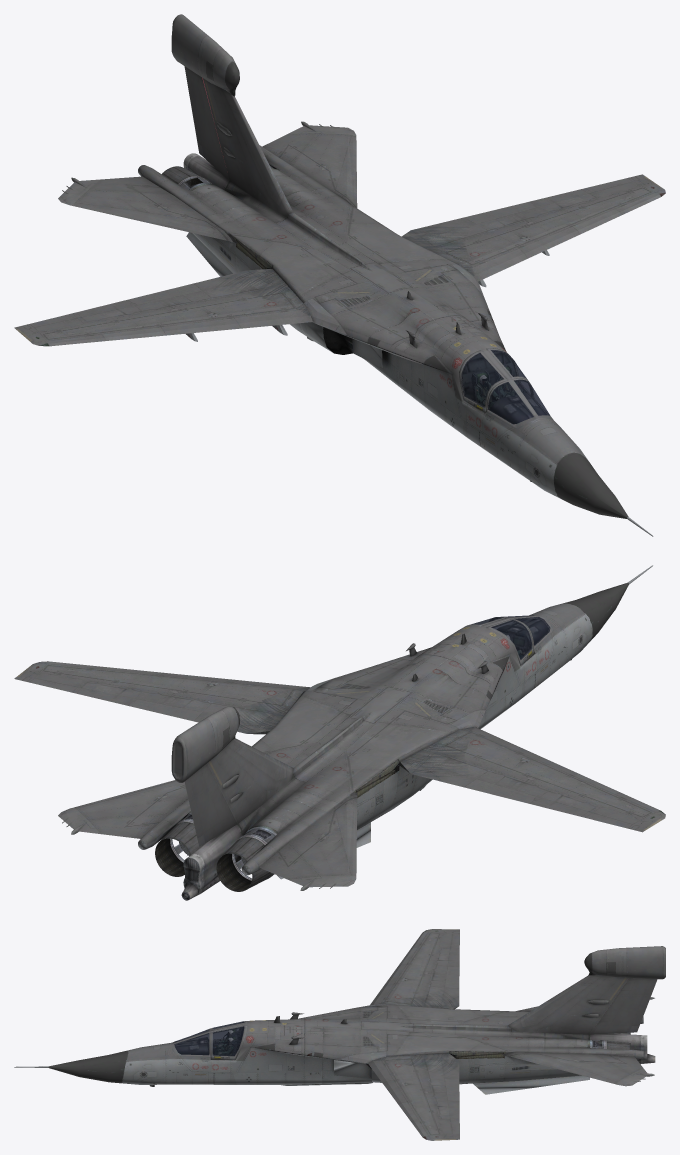
File: EF-111A_Raven.dat.obj
3 renders of one model, top to bottom at view 1: azimuth 30°, elevation 25°; view 2: azimuth 150°, elevation 25°; view 3: azimuth 270°, elevation 25°, orthographic. The views are drawn at different scales.
Parts seen in each view (by area): view 1: EF-111_LOD0_default, EF-111_WingR01_default, EF-111_WingL01_default, EF-111_ElevatorR01_default, EF-111_ElevatorL01_default, EF-111_Glass_Canopy02_default, EF-111_RudderL01_default, EF-111_VoletR04_default, EF-111_VoletL04_default, EF-111_VoletR03_default; view 2: EF-111_LOD0_default, EF-111_WingR01_default, EF-111_WingL01_default, EF-111_ElevatorR01_default, EF-111_ElevatorL01_default, EF-111_RudderL01_default, EF-111_EngineR01_default, EF-111_EngineL01_default, EF-111_Glass_Canopy02_default, EF-111_BrakeR03_default, EF-111_FlapR02_default, EF-111_FlapL02_default (+4 smaller); view 3: EF-111_LOD0_default, EF-111_WingL01_default, EF-111_WingR01_default, EF-111_ElevatorL01_default, EF-111_RudderL01_default, EF-111_Glass_Canopy02_default, EF-111_VoletL05_default, EF-111_EngineL01_default, EF-111_VoletL04_default.
Part boxes in pixels (x1=…): EF-111_LOD0_default: x1=138, y1=14, x2=653, y2=536; EF-111_WingR01_default: x1=14, y1=269, x2=306, y2=346; EF-111_WingL01_default: x1=402, y1=174, x2=665, y2=269; EF-111_ElevatorR01_default: x1=58, y1=176, x2=232, y2=241; EF-111_ElevatorL01_default: x1=262, y1=121, x2=357, y2=207; EF-111_Glass_Canopy02_default: x1=461, y1=350, x2=549, y2=424; EF-111_RudderL01_default: x1=184, y1=66, x2=229, y2=180; EF-111_VoletR04_default: x1=235, y1=308, x2=312, y2=328; EF-111_VoletL04_default: x1=466, y1=248, x2=527, y2=281; EF-111_VoletR03_default: x1=161, y1=317, x2=241, y2=335; EF-111_LOD0_default: x1=138, y1=565, x2=652, y2=900; EF-111_WingR01_default: x1=400, y1=728, x2=665, y2=832; EF-111_WingL01_default: x1=14, y1=661, x2=306, y2=734; EF-111_ElevatorR01_default: x1=259, y1=795, x2=357, y2=890; EF-111_ElevatorL01_default: x1=58, y1=780, x2=187, y2=838; EF-111_RudderL01_default: x1=184, y1=764, x2=237, y2=846; EF-111_EngineR01_default: x1=216, y1=826, x2=276, y2=891; EF-111_EngineL01_default: x1=155, y1=812, x2=201, y2=876; EF-111_Glass_Canopy02_default: x1=471, y1=615, x2=550, y2=659; EF-111_BrakeR03_default: x1=423, y1=753, x2=487, y2=778; EF-111_FlapR02_default: x1=463, y1=779, x2=538, y2=803; EF-111_FlapL02_default: x1=128, y1=699, x2=202, y2=721; EF-111_LOD0_default: x1=14, y1=946, x2=665, y2=1094; EF-111_WingL01_default: x1=381, y1=1053, x2=459, y2=1140; EF-111_WingR01_default: x1=381, y1=929, x2=459, y2=1009; EF-111_ElevatorL01_default: x1=506, y1=1052, x2=654, y2=1086; EF-111_RudderL01_default: x1=590, y1=978, x2=657, y2=1034; EF-111_Glass_Canopy02_default: x1=174, y1=1021, x2=244, y2=1056; EF-111_VoletL05_default: x1=339, y1=1052, x2=386, y2=1063; EF-111_EngineL01_default: x1=590, y1=1039, x2=630, y2=1049; EF-111_VoletL04_default: x1=368, y1=1058, x2=393, y2=1082.
Size of the model in its own units: 19.24 by 5.97 by 25.04.
